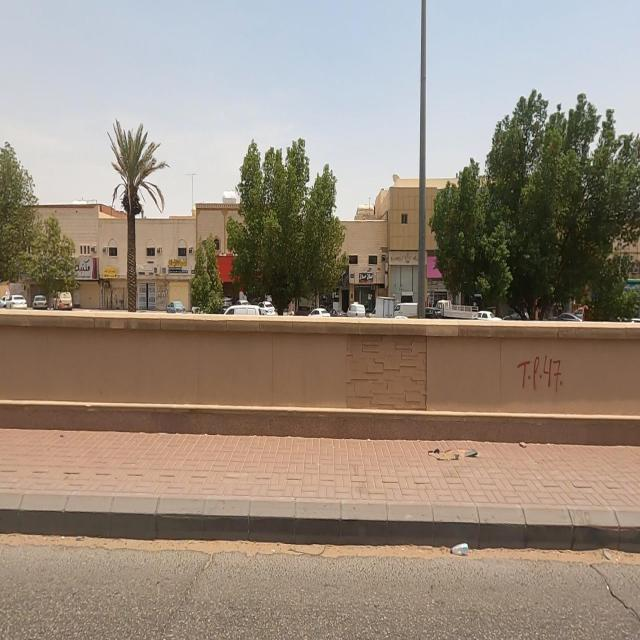Graffiti: (519, 357, 565, 394)
